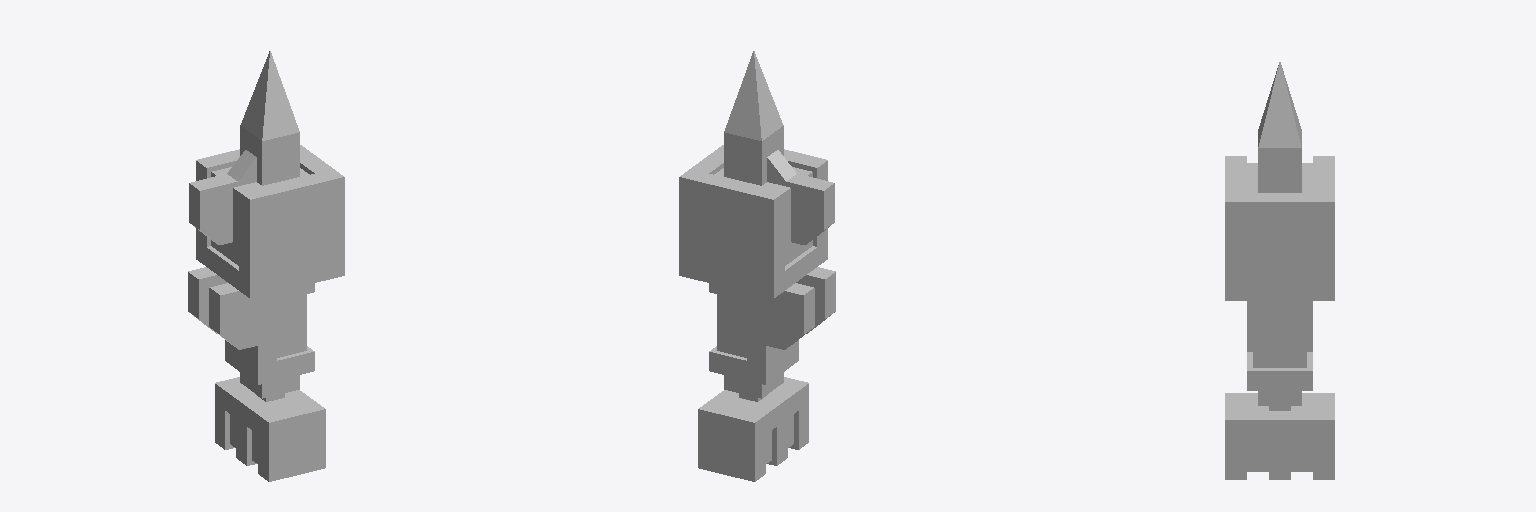
The model's file is arm_hammer_l.obj.
3 renders of one model, left to right at view 1: azimuth 30°, elevation 25°; view 2: azimuth 150°, elevation 25°; view 3: azimuth 270°, elevation 25°, orthographic.
Visible parts, largest first — view 1: ARM_LEFT_HAMMER.OBSVAR_Cube.324, ARM_LEFT_DECO_OBSIDIAN_Cube.362; view 2: ARM_LEFT_HAMMER.OBSVAR_Cube.324, ARM_LEFT_DECO_OBSIDIAN_Cube.362; view 3: ARM_LEFT_HAMMER.OBSVAR_Cube.324, ARM_LEFT_DECO_OBSIDIAN_Cube.362.
Boxes of the visible parts, x1=… form: ARM_LEFT_HAMMER.OBSVAR_Cube.324: x1=196, y1=145, x2=344, y2=481; ARM_LEFT_DECO_OBSIDIAN_Cube.362: x1=188, y1=51, x2=299, y2=349; ARM_LEFT_HAMMER.OBSVAR_Cube.324: x1=679, y1=145, x2=827, y2=481; ARM_LEFT_DECO_OBSIDIAN_Cube.362: x1=724, y1=51, x2=835, y2=349; ARM_LEFT_HAMMER.OBSVAR_Cube.324: x1=1225, y1=156, x2=1334, y2=479; ARM_LEFT_DECO_OBSIDIAN_Cube.362: x1=1258, y1=62, x2=1301, y2=192.
Bounding box in the file's own units: 0.4062 × 1.28 × 0.3125.